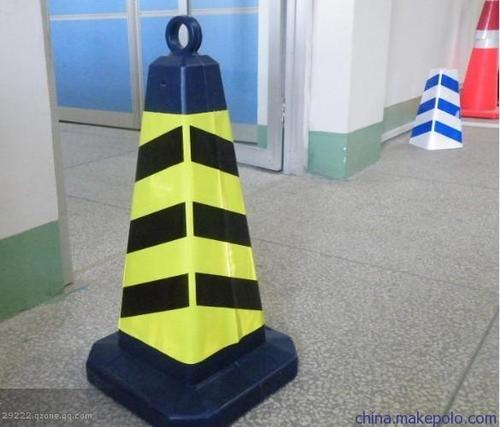cone_barrel: (90, 24, 296, 402), (407, 67, 463, 151), (458, 0, 498, 117)
